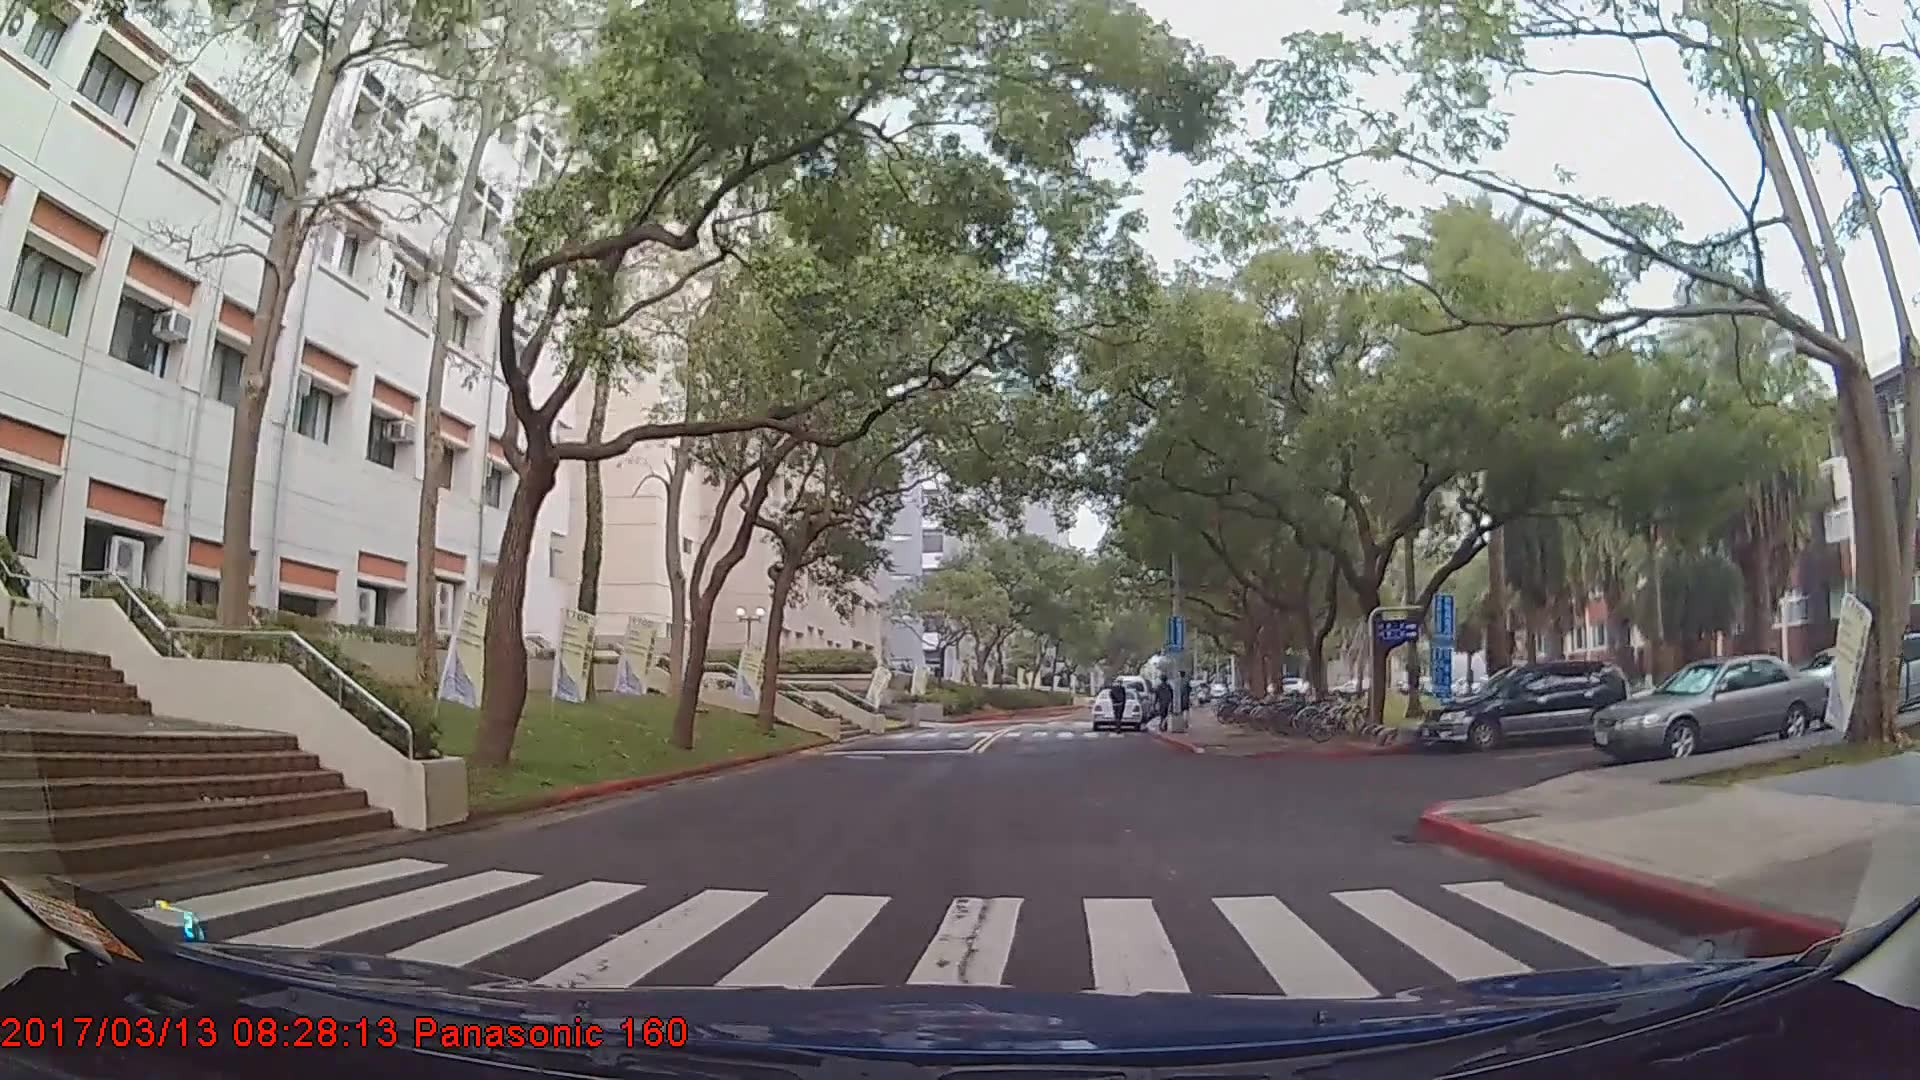pedestrian: (1108, 682, 1128, 739), (1156, 678, 1177, 731)
vehicle: (1593, 653, 1825, 766), (1424, 659, 1629, 753), (1086, 686, 1143, 731)
